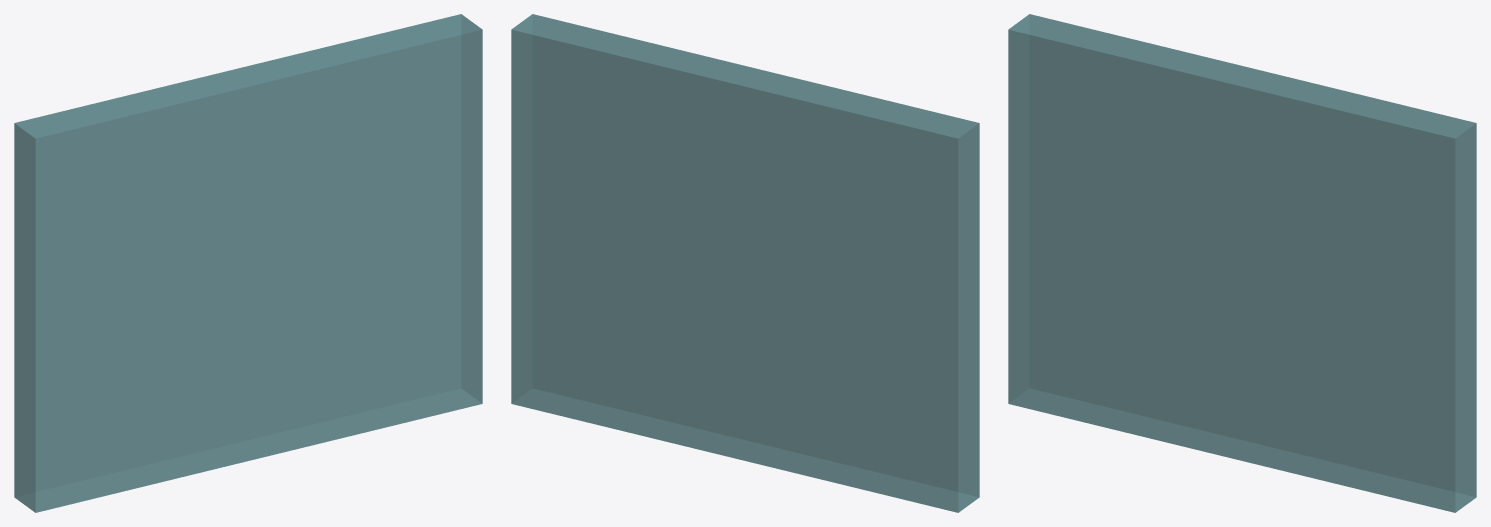
The picture shows the model from 3 angles, left to right: view 1: azimuth 30°, elevation 25°; view 2: azimuth 150°, elevation 25°; view 3: azimuth 330°, elevation 25°; orthographic projection.
Parts seen in each view (by area): view 1: B-FF-16D1; view 2: B-FF-16D1; view 3: B-FF-16D1.
Part boxes in pixels (<box>): B-FF-16D1: <box>14,14,482,512</box>; B-FF-16D1: <box>511,14,979,512</box>; B-FF-16D1: <box>1008,14,1476,512</box>.
Size of the model in its own units: 1.5 by 1.2 by 0.124.
